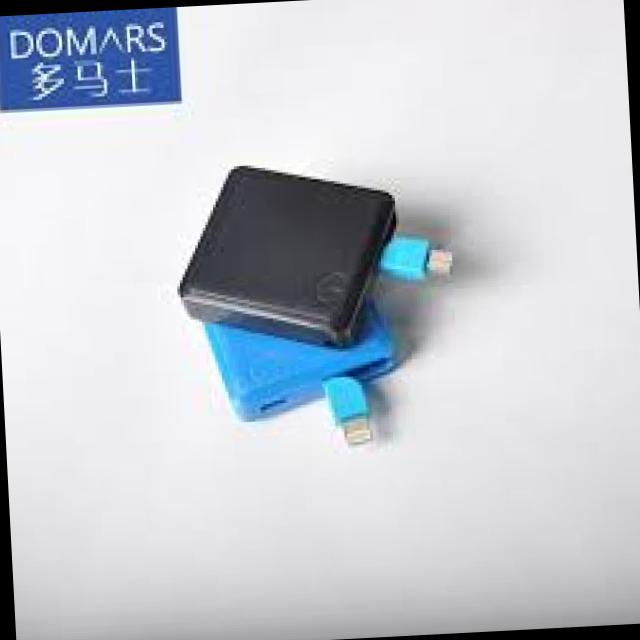power_bank: (166, 152, 460, 358), (186, 274, 406, 454)
